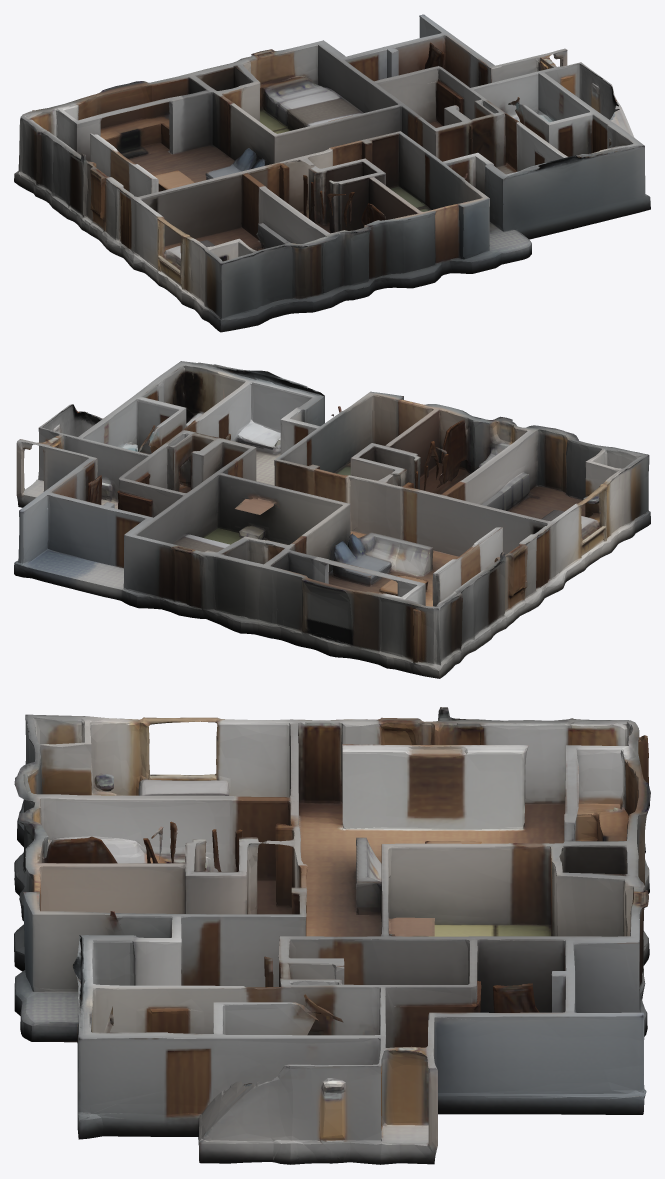
The picture shows the model from 3 angles, top to bottom: view 1: azimuth 30°, elevation 25°; view 2: azimuth 150°, elevation 25°; view 3: azimuth 270°, elevation 25°; orthographic projection. The views are drawn at different scales.
Parts seen in each view (by area): view 1: world; view 2: world; view 3: world.
Part boxes in pixels (x1,y1,x2,y2): world: (14,14,650,332); world: (14,361,650,678); world: (14,707,650,1164).
Bounding box in the file's own units: 0.9998 × 0.1489 × 0.7657.
Materials: 1 (1 with a texture image).
